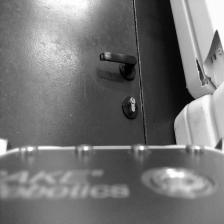Door Handle: (99, 51, 138, 83)
Lock: (122, 95, 139, 122)
